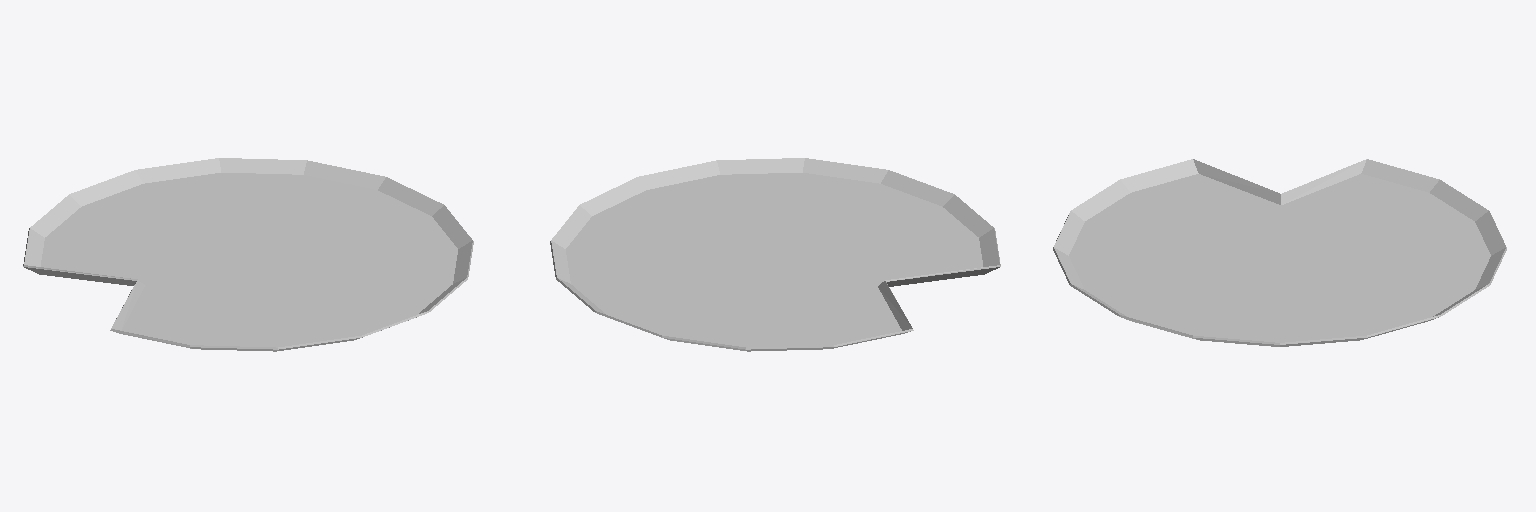
File: Lilypad.obj
The picture shows the model from 3 angles: view 1: azimuth 30°, elevation 25°; view 2: azimuth 150°, elevation 25°; view 3: azimuth 270°, elevation 25°; orthographic projection.
Visible parts, largest first — view 1: Lilypad_Circle.004; view 2: Lilypad_Circle.004; view 3: Lilypad_Circle.004.
Boxes of the visible parts, x1,y1,x2,y2 form: Lilypad_Circle.004: [23, 158, 473, 351]; Lilypad_Circle.004: [550, 158, 1000, 351]; Lilypad_Circle.004: [1053, 159, 1506, 346].
Size of the model in its own units: 2.07 by 0.0535 by 2.15.